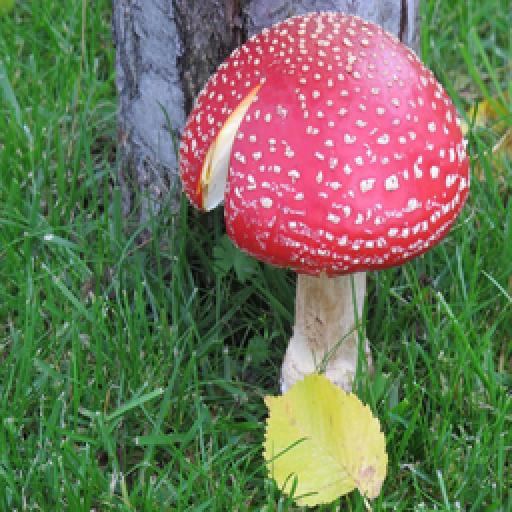mushrooms: (182, 15, 470, 398)
